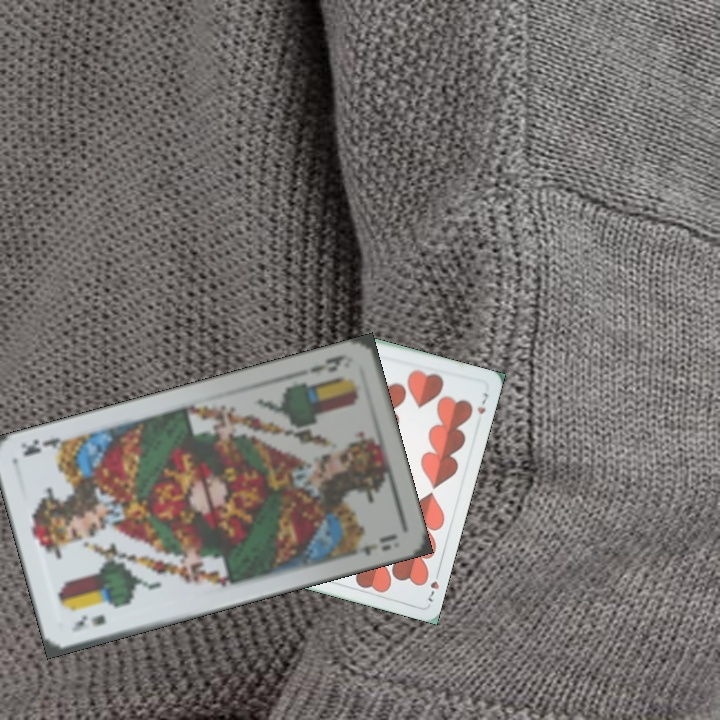EK: (305, 351, 348, 375), (67, 610, 108, 635)
H7: (423, 566, 442, 605)
